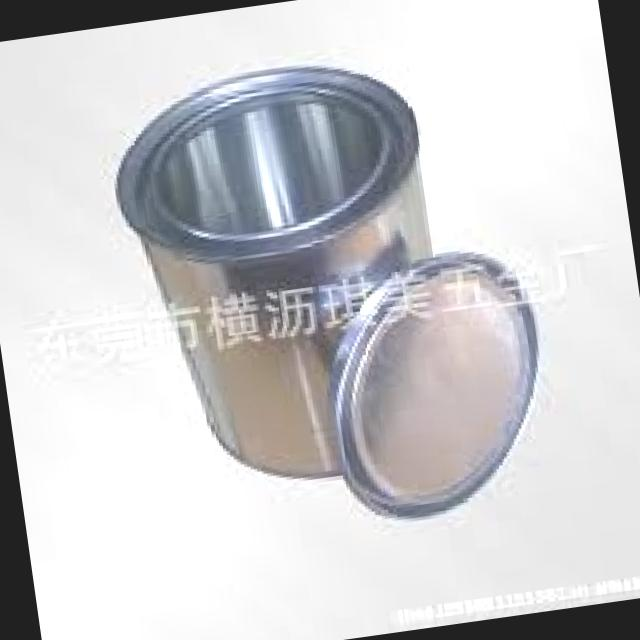kim_loai: (114, 65, 540, 517)
